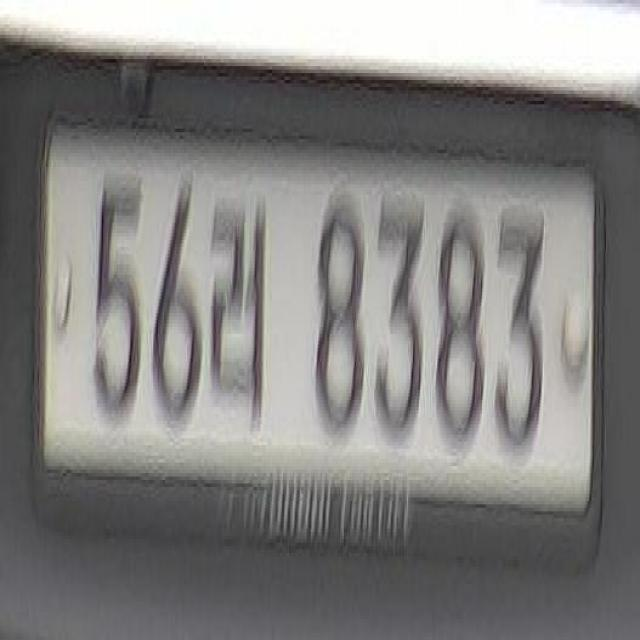illegal_plate: (38, 120, 605, 553)
